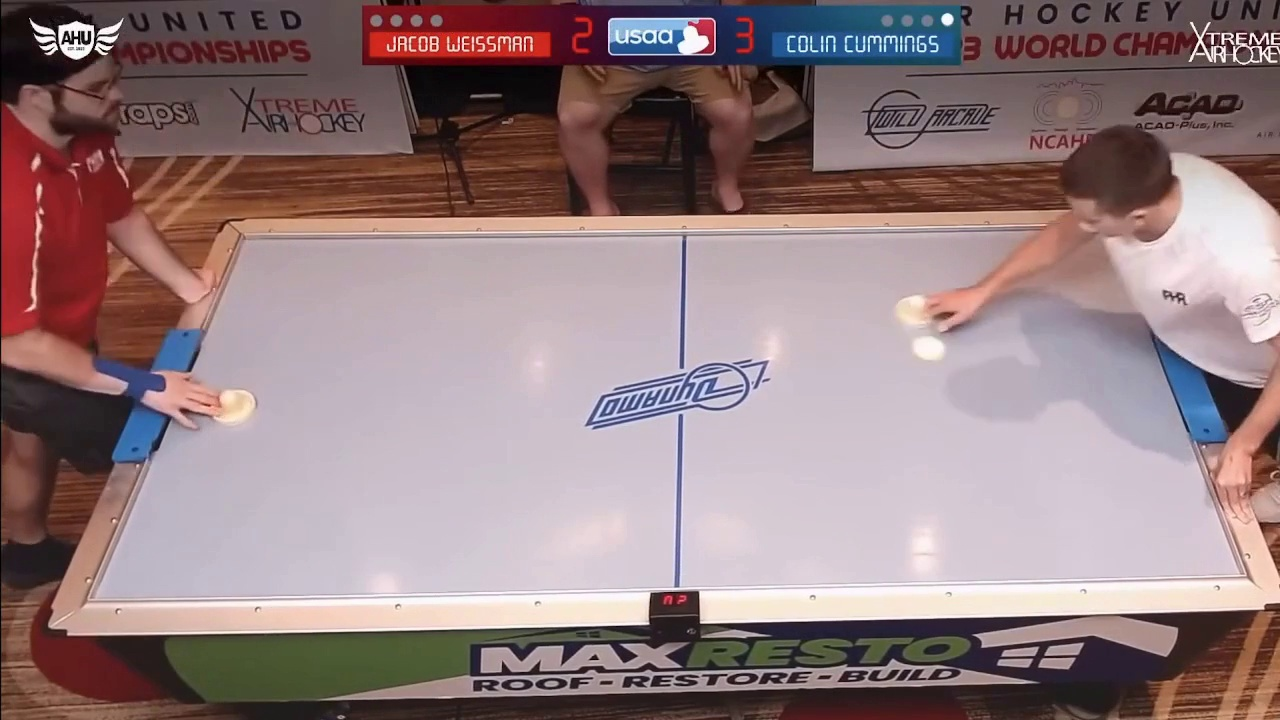player: (206, 389, 257, 426), (896, 292, 945, 328)
puck: (911, 335, 947, 361)
table: (85, 219, 1267, 612)
